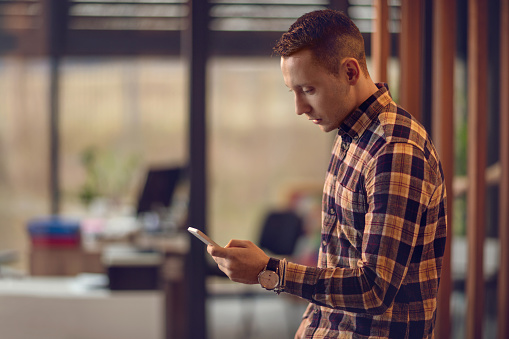em pe: (177, 7, 479, 339)
